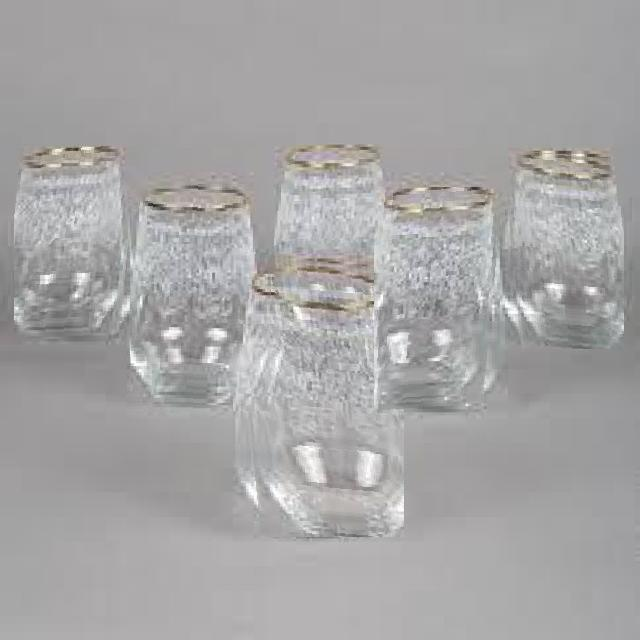Glass: (232, 254, 404, 537), (130, 183, 273, 411), (374, 187, 504, 412), (502, 150, 624, 350), (14, 146, 138, 340), (274, 144, 386, 255)
